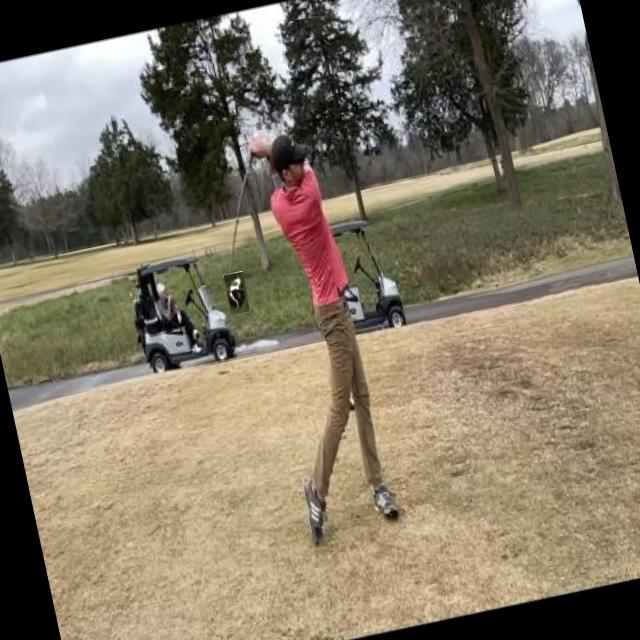club head: (222, 270, 250, 314)
